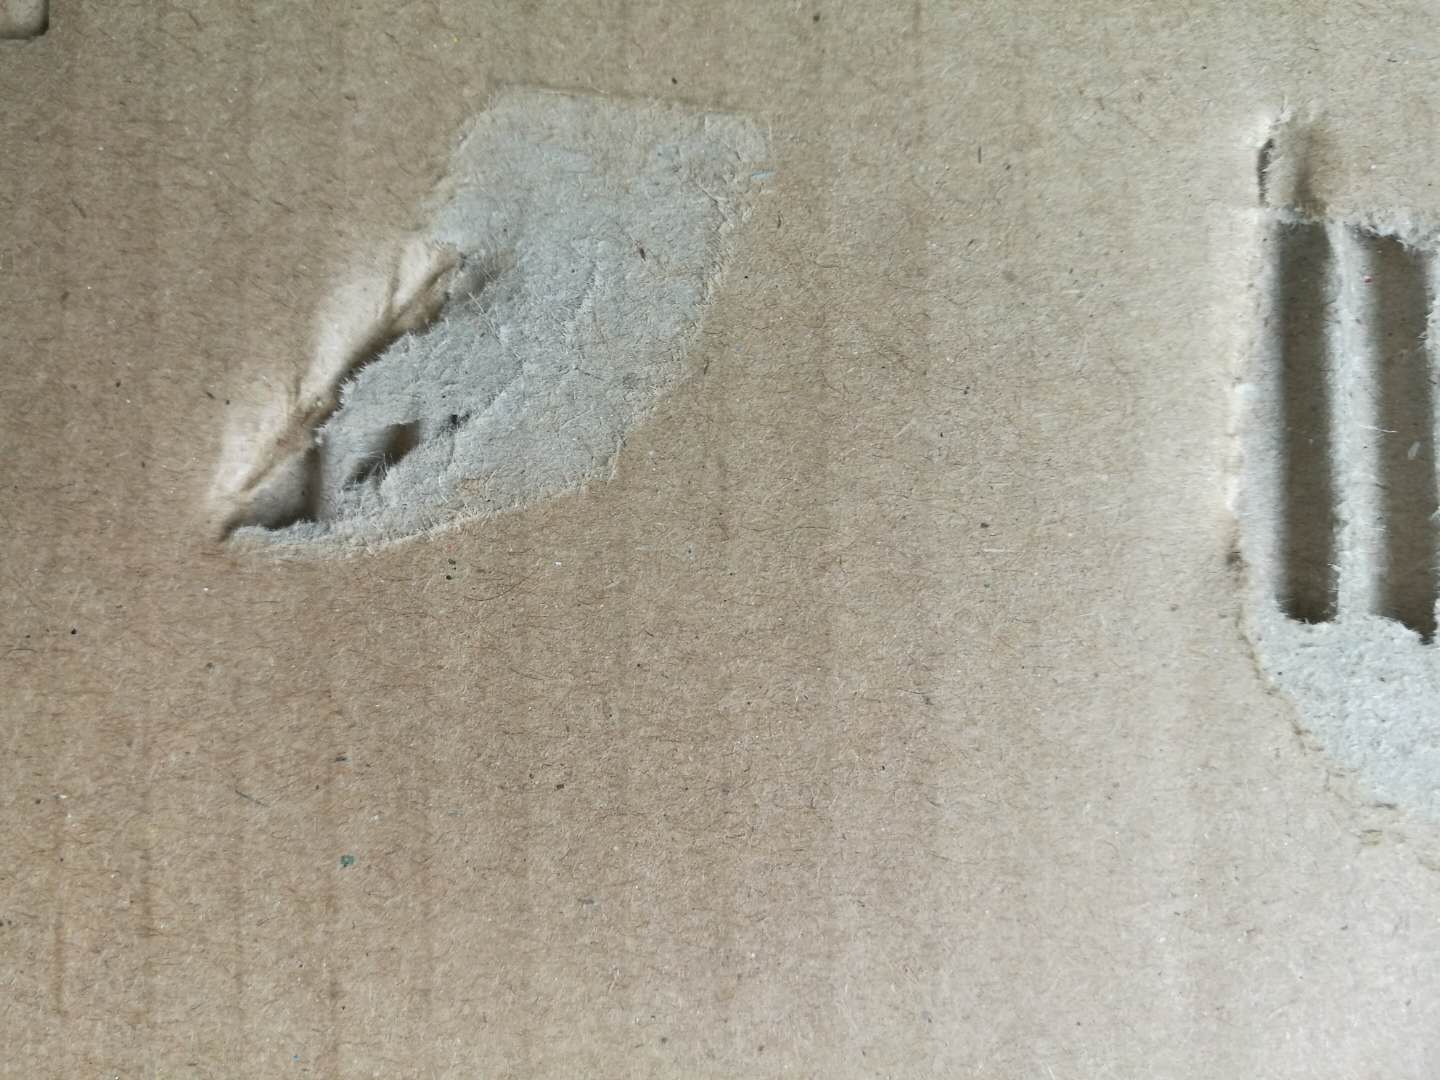defect: (183, 49, 818, 602), (1147, 71, 1440, 898), (1, 1, 68, 61)
